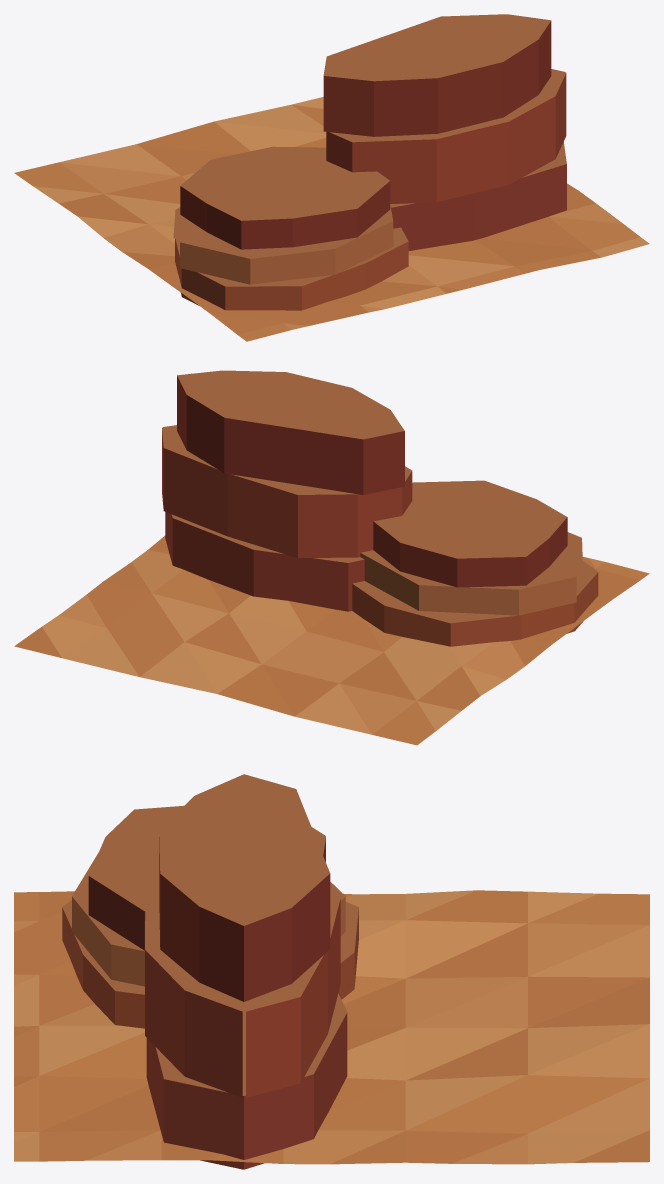
The picture shows the model from 3 angles, top to bottom: view 1: azimuth 30°, elevation 25°; view 2: azimuth 150°, elevation 25°; view 3: azimuth 270°, elevation 25°; orthographic projection. The views are drawn at different scales.
Visible parts, largest first — view 1: baked; view 2: baked; view 3: baked.
Boxes of the visible parts, x1,y1,x2,y2 form: baked: (14, 14, 649, 341); baked: (14, 370, 649, 745); baked: (14, 774, 649, 1169).
Size of the model in its own units: 62.5 by 25.59 by 62.5.
